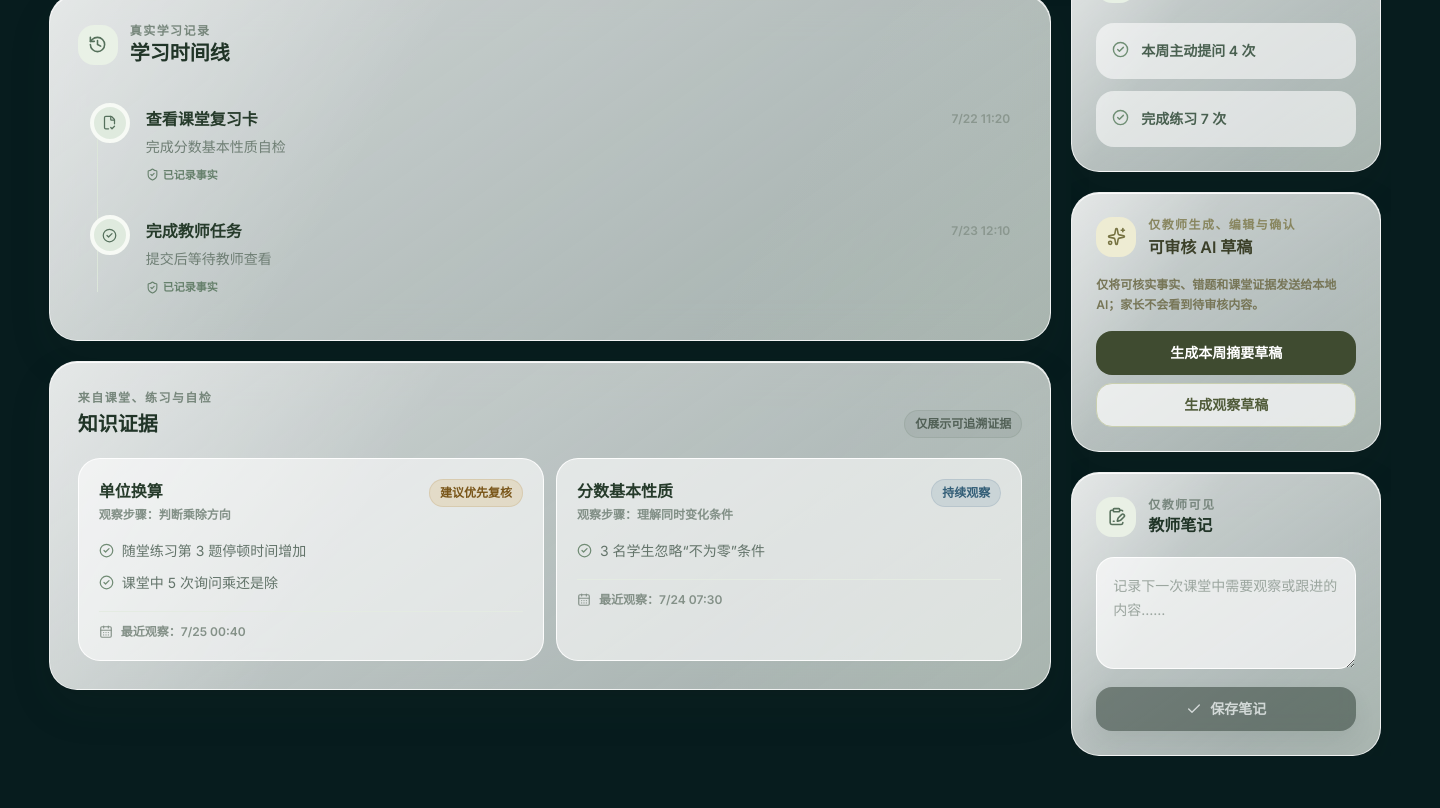
Scenario: saves a teacher note without showing a nonfunctional correction request
The width and height of the screenshot is (1440, 808).
(page scrolled)
Type "下节课观察晓雨能否独立判断单位换算方向。" into the text box named "教师笔记" at (1226, 613), box [1096,557,1356,669]
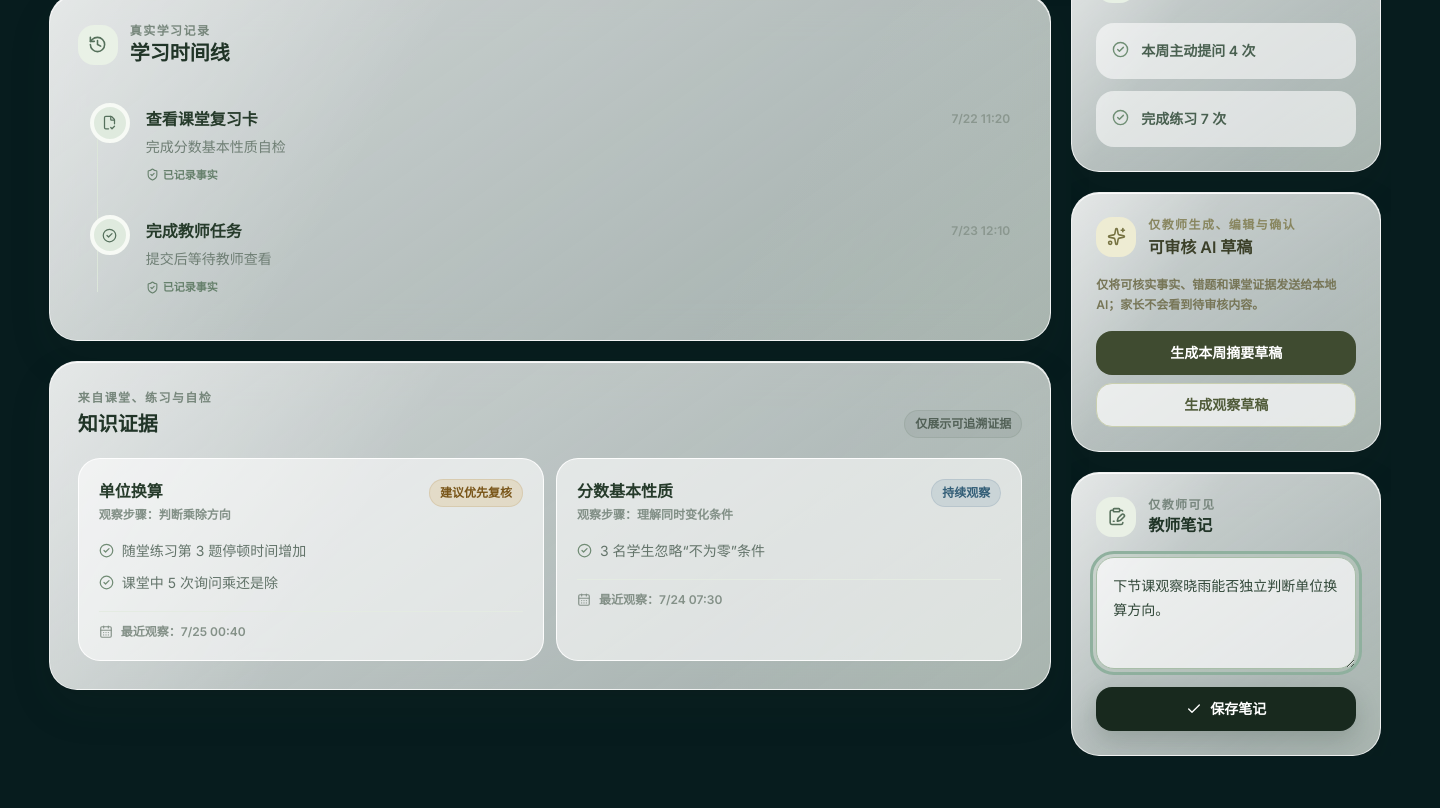
Click the button "保存笔记" at (1226, 709), box [1096,687,1356,731]
(page scrolled)
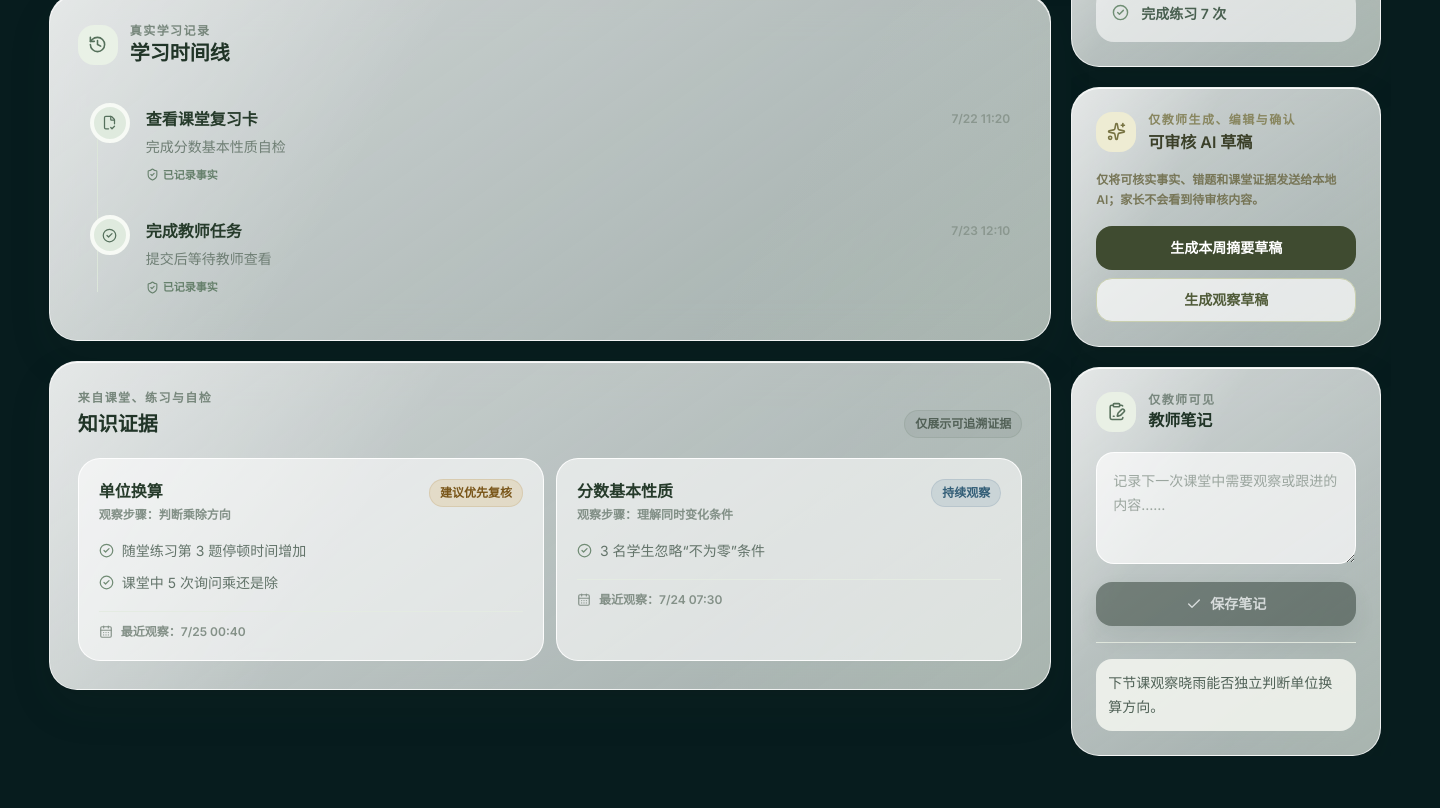
Check: the text "下节课观察晓雨能否独立判断单位换算方向。" is shown, box [1096,659,1356,731]
